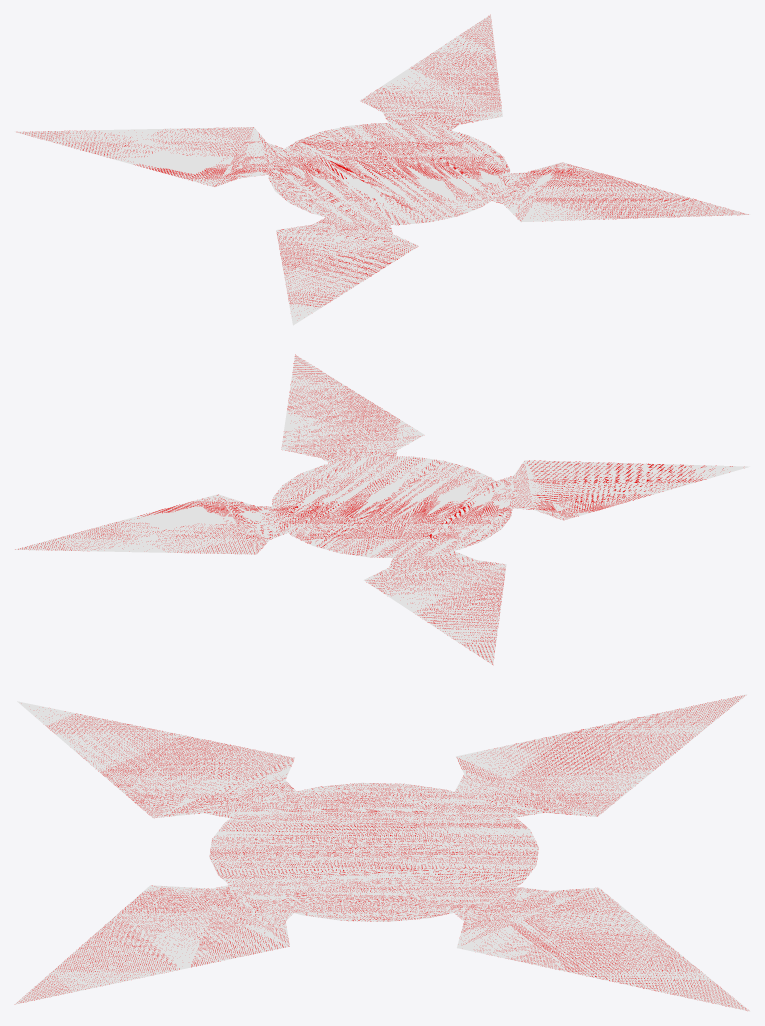
Rendered from NinjaStar2.dae.
The picture shows the model from 3 angles, top to bottom: view 1: azimuth 30°, elevation 25°; view 2: azimuth 150°, elevation 25°; view 3: azimuth 270°, elevation 25°; orthographic projection. The views are drawn at different scales.
Visible parts, largest first — view 1: SketchUp; view 2: SketchUp; view 3: SketchUp.
Part boxes in pixels (x1=…): SketchUp: x1=14, y1=14, x2=750, y2=325; SketchUp: x1=14, y1=354, x2=749, y2=665; SketchUp: x1=14, y1=694, x2=750, y2=1011.
Bounding box in the file's own units: 77.76 × 76.23 × 7.12e-15.
